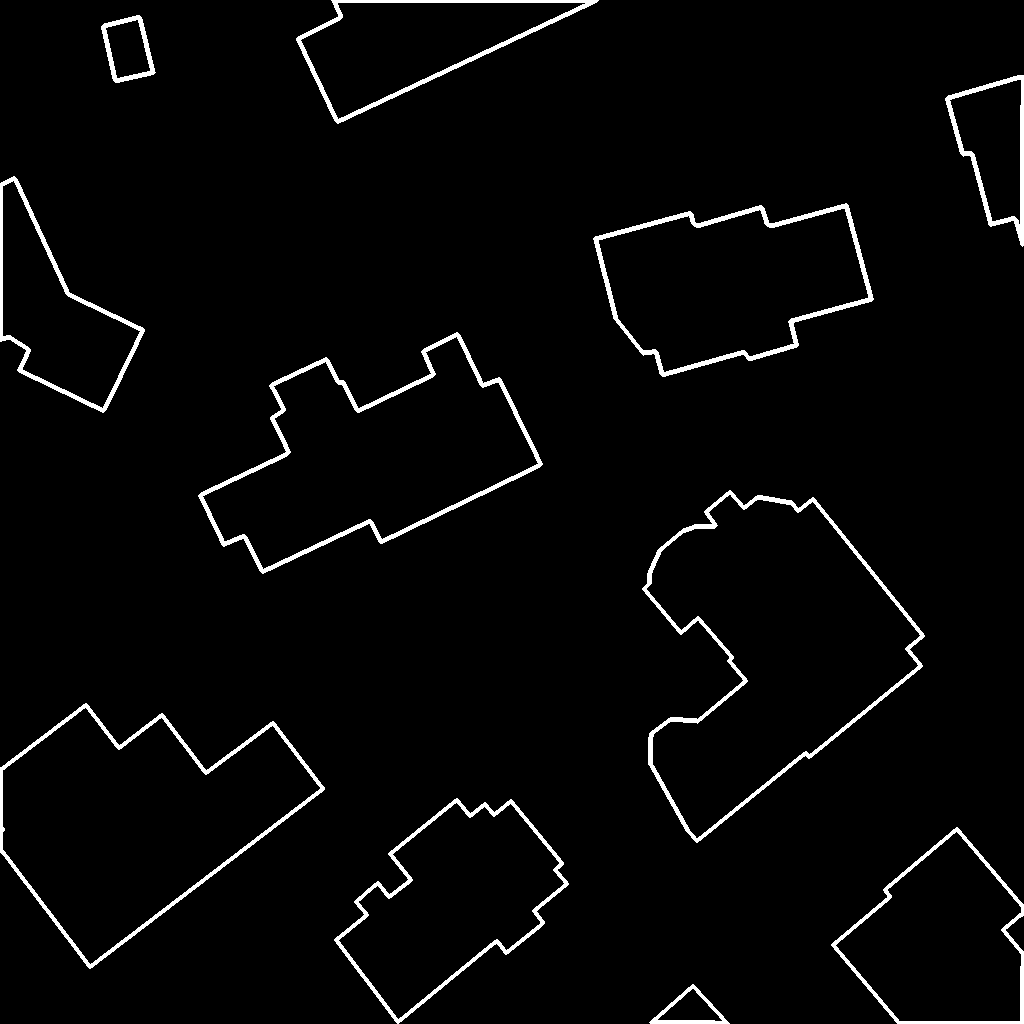building: (644, 492, 924, 842), (0, 705, 324, 968), (200, 334, 542, 573), (336, 800, 568, 1023), (595, 205, 873, 376), (833, 829, 1024, 1024), (298, 0, 599, 123), (0, 178, 144, 412), (947, 77, 1024, 247), (103, 17, 154, 82), (651, 986, 729, 1024)
